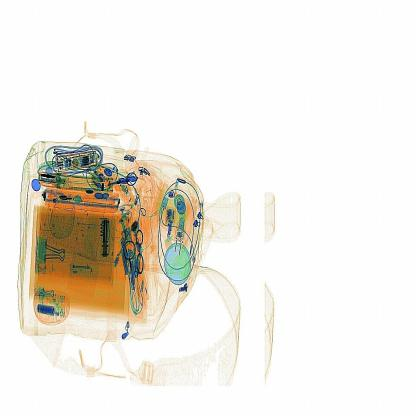scissors: (97, 212, 112, 262)
